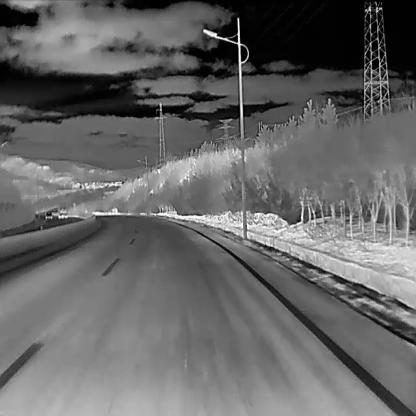car: (45, 210, 52, 218)
truck: (57, 198, 68, 219)
